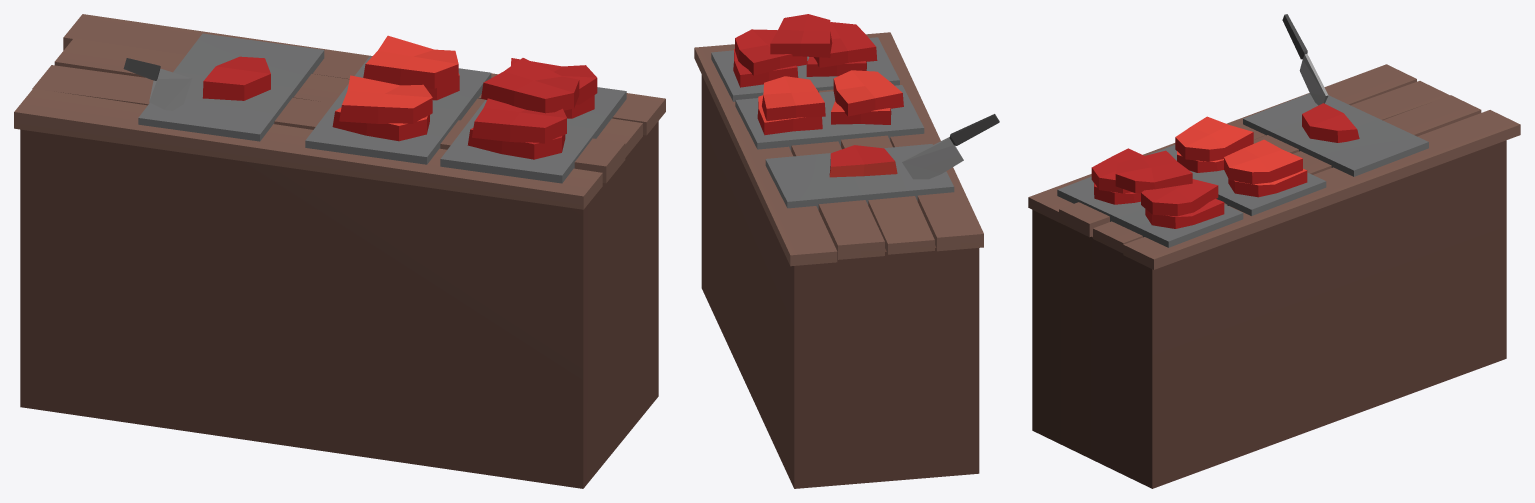
The model's file is n4_stall_table_001_lev4.glb.
The picture shows the model from 3 angles, left to right: view 1: azimuth 30°, elevation 25°; view 2: azimuth 150°, elevation 25°; view 3: azimuth 270°, elevation 25°; orthographic projection. The views are drawn at different scales.
Visible parts, largest first — view 1: n4_stall_table_001_lev4; view 2: n4_stall_table_001_lev4; view 3: n4_stall_table_001_lev4.
Part boxes in pixels (box(x1,y1,x2,y2)): n4_stall_table_001_lev4: box(14, 14, 665, 488); n4_stall_table_001_lev4: box(694, 14, 999, 488); n4_stall_table_001_lev4: box(1028, 14, 1520, 488).
Bounding box in the file's own units: 2.74 × 2 × 2.94.
Materials: 1 (1 with a texture image).
